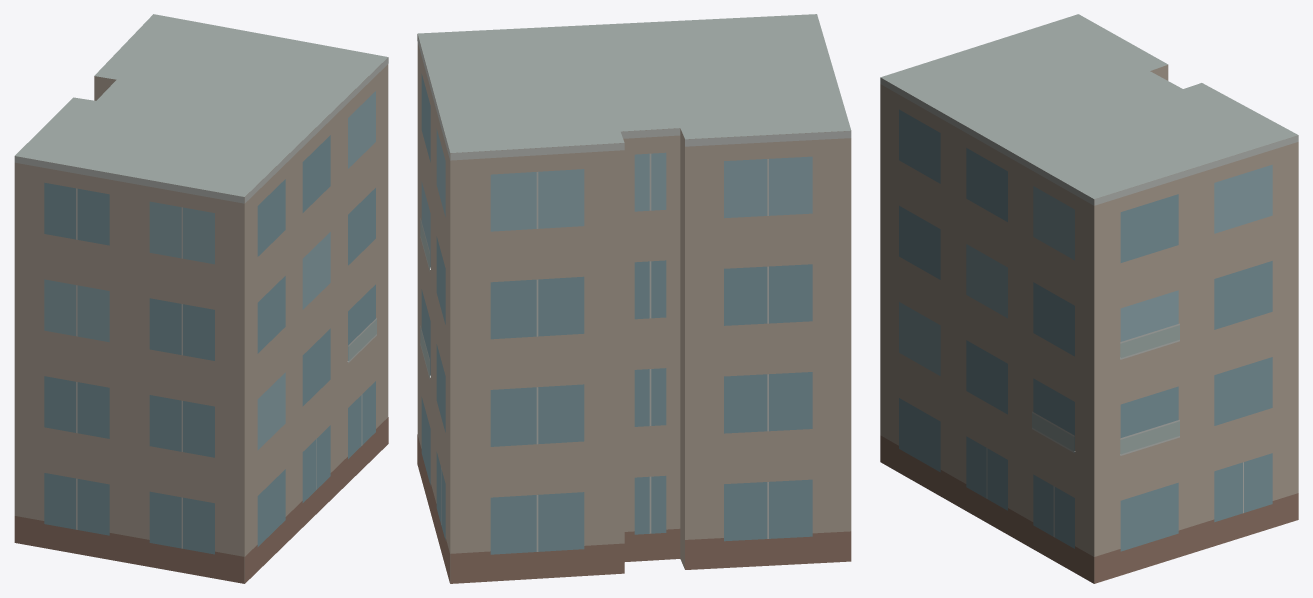
Rendered from survey-upis-32941239.glb.
3 views of the same model, side by side, from view 1: azimuth 30°, elevation 25°; view 2: azimuth 150°, elevation 25°; view 3: azimuth 270°, elevation 25° (orthographic). The views are drawn at different scales.
Parts seen in each view (by area): view 1: survey-upis-32941239.tmp; view 2: survey-upis-32941239.tmp; view 3: survey-upis-32941239.tmp.
Boxes of the visible parts, x1,y1,x2,y2 form: survey-upis-32941239.tmp: (14,14,388,583); survey-upis-32941239.tmp: (417,14,851,583); survey-upis-32941239.tmp: (880,14,1298,583).
Size of the model in its own units: 14.67 by 14.2 by 14.01.
